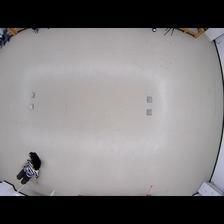fall: (17, 153, 43, 185)
